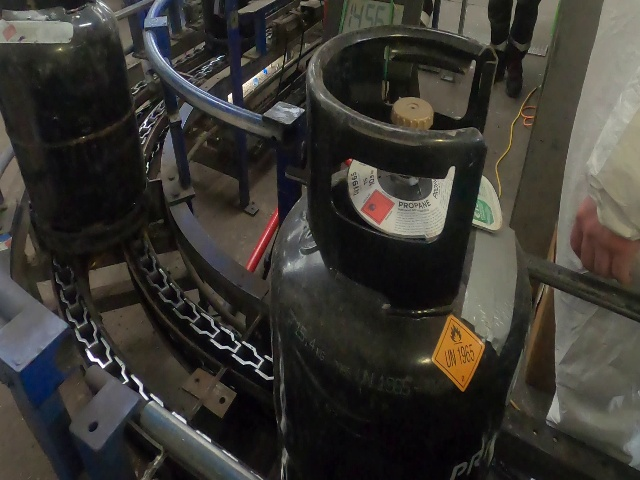gas_bottle: (0, 0, 635, 478)
